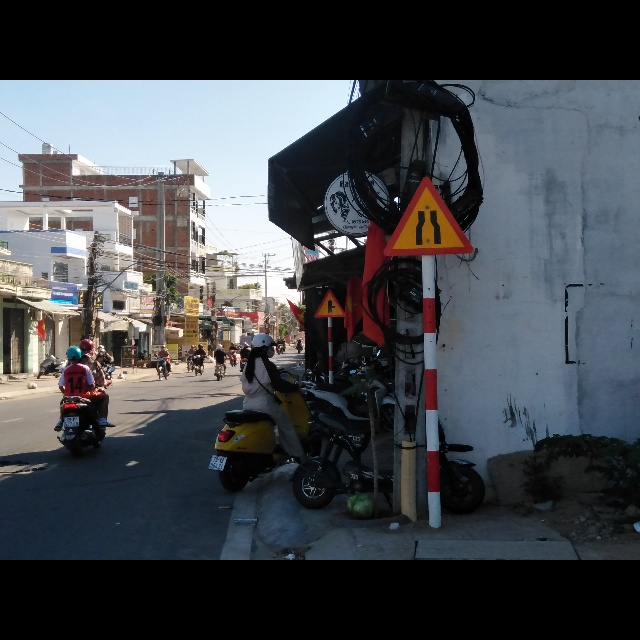Giao nhau với đường không ưu tiên: (313, 290, 347, 318)
Đường bị hẹp cả hai bên: (385, 173, 474, 255)
